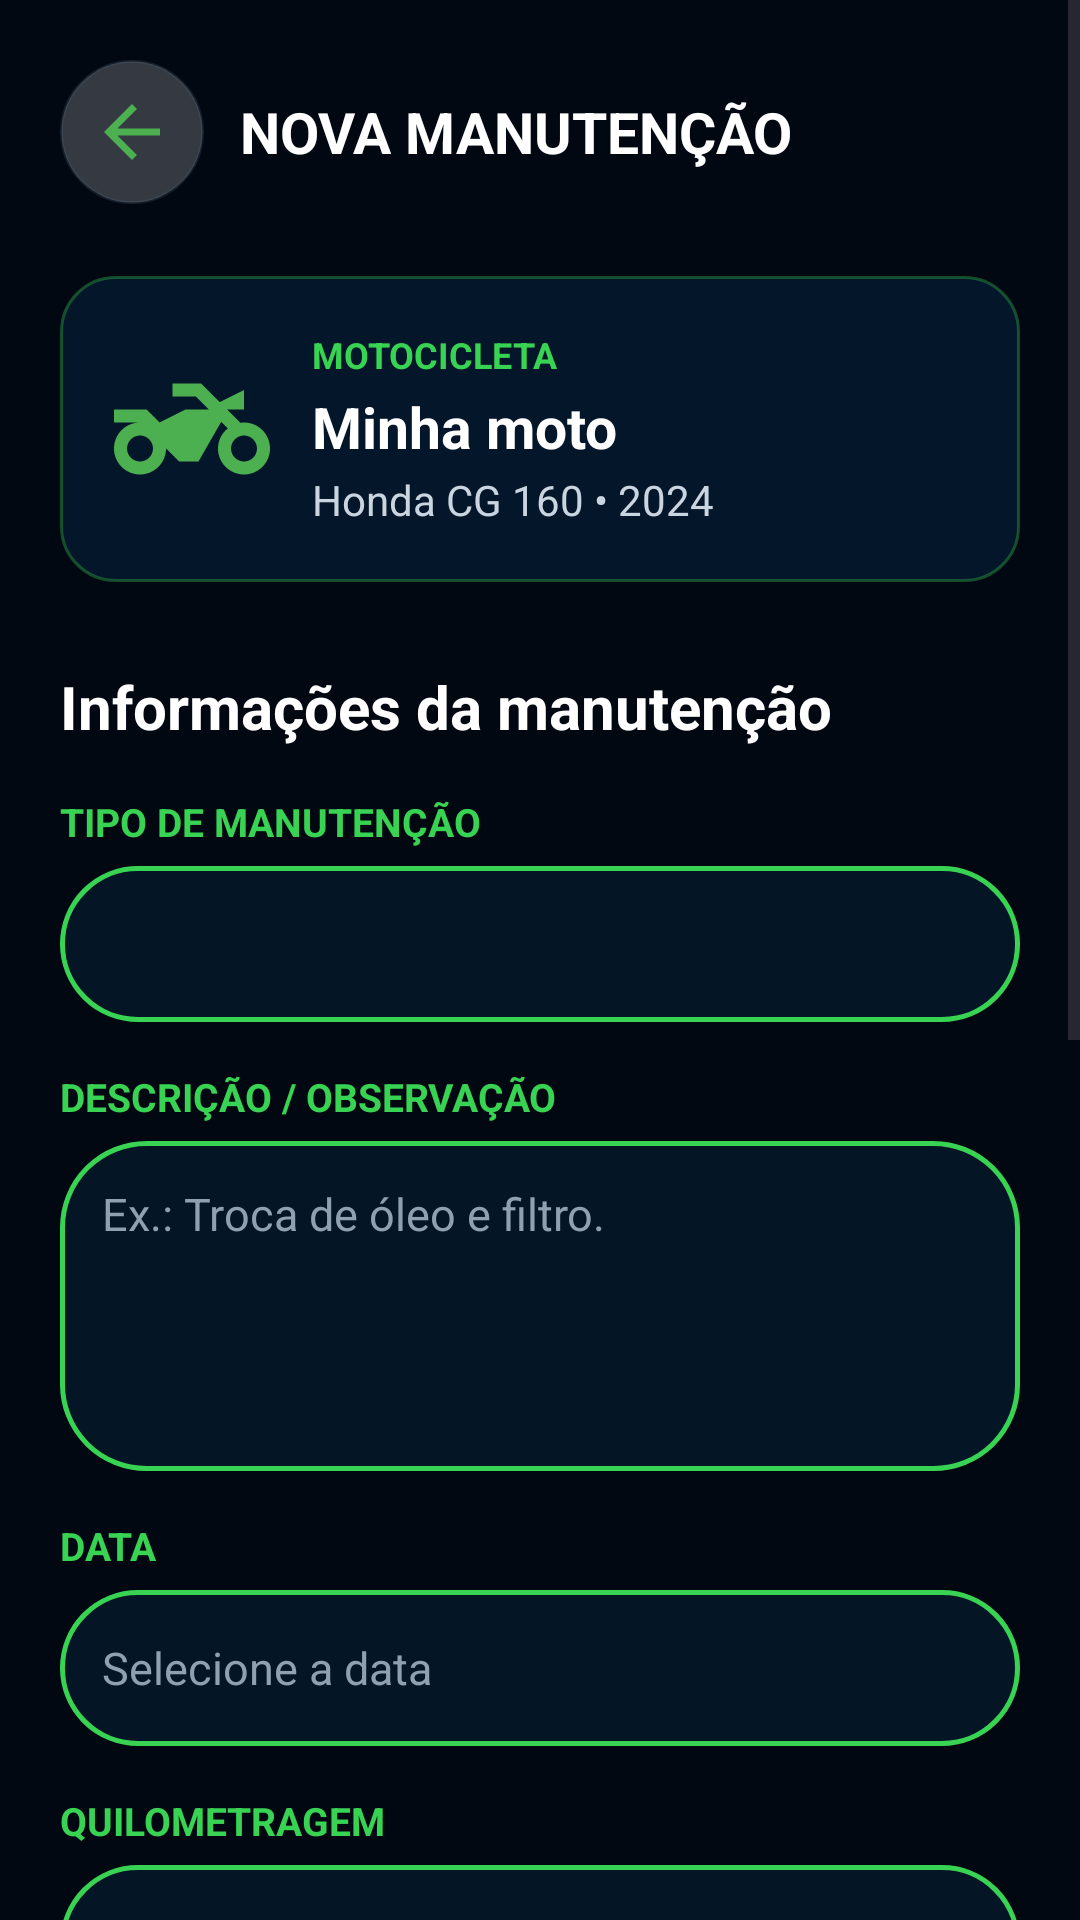

Icons on this 1080x1920 Android screen, each with its box as (x1, y1, x2, y2):
Voltar: (60, 60, 203, 204)
